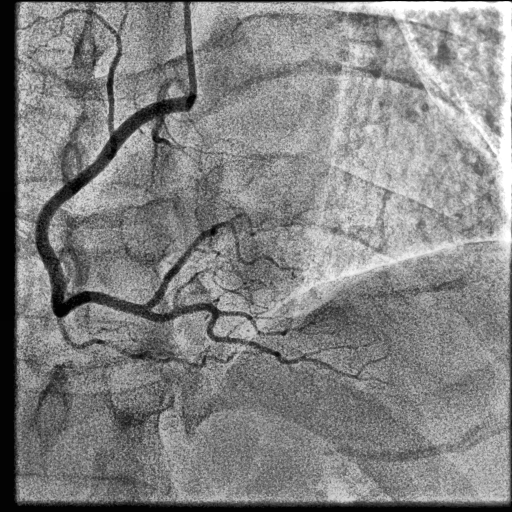pborca: (147, 213, 243, 308)
pda: (146, 303, 356, 379)
rca: (34, 96, 188, 319)
